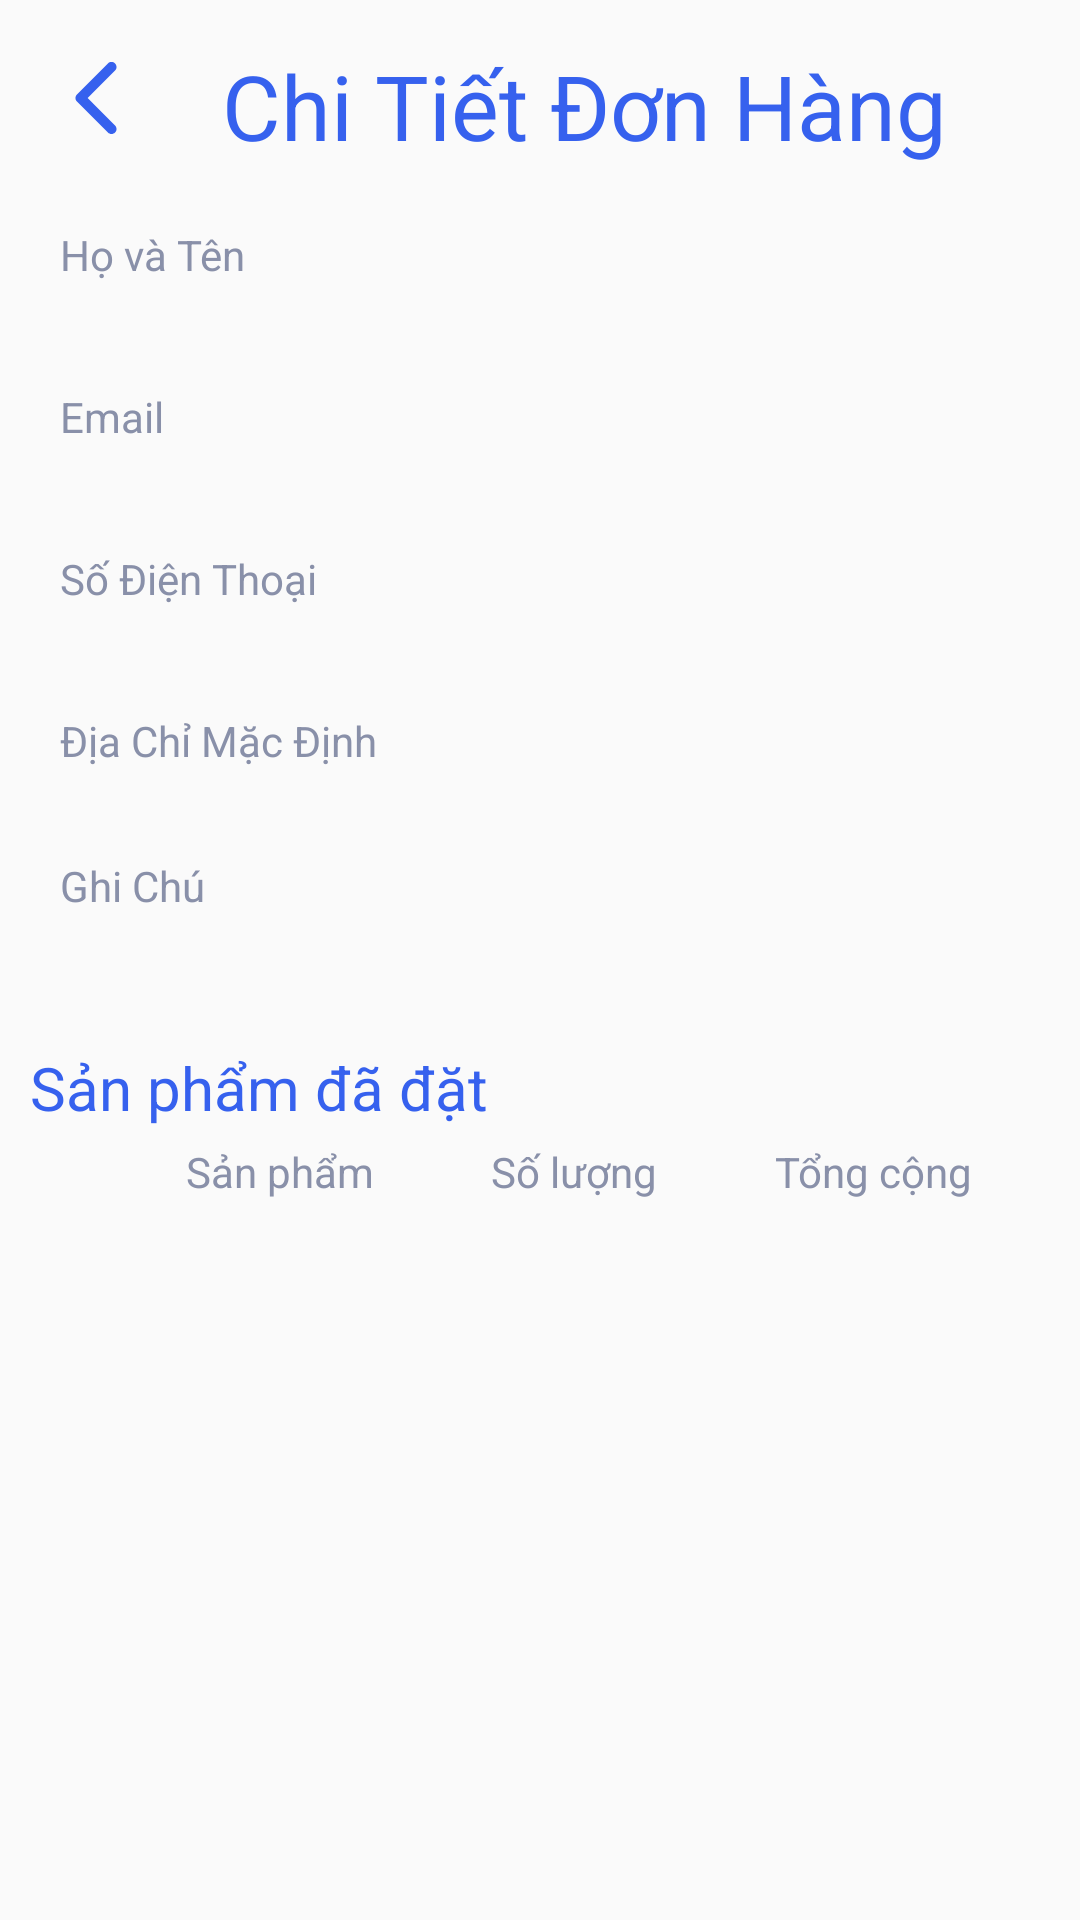

Icons on this 1080x1920 Android screen, each with its box as (x1, y1, x2, y2):
arrow left: (75, 62, 117, 134)
